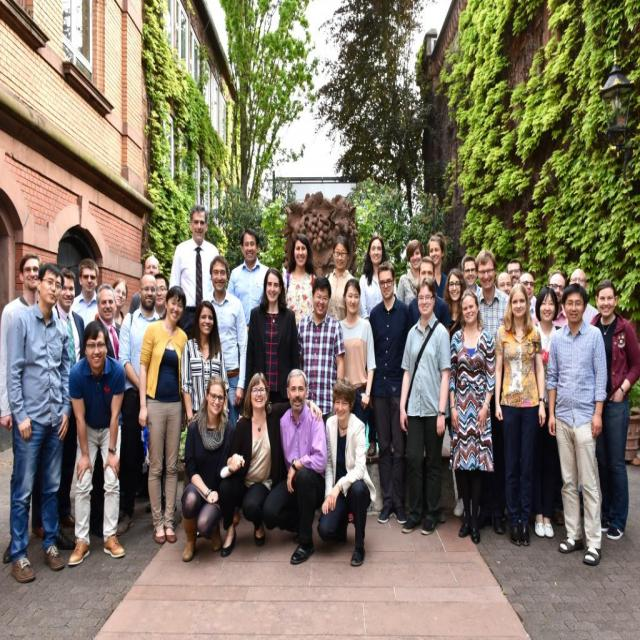body: (0, 250, 79, 567), (6, 260, 74, 584), (545, 283, 609, 567), (68, 317, 128, 568), (492, 281, 548, 548), (398, 274, 453, 537), (138, 283, 192, 546), (588, 278, 640, 542), (113, 272, 163, 538), (446, 288, 497, 545), (179, 373, 247, 562), (368, 258, 415, 528), (219, 372, 281, 560), (317, 374, 377, 567), (473, 249, 510, 536), (279, 366, 329, 567), (87, 283, 122, 537), (53, 266, 86, 529), (200, 253, 249, 427), (294, 275, 346, 430), (244, 265, 300, 404), (334, 278, 377, 458), (532, 285, 562, 539), (168, 203, 220, 341), (180, 298, 231, 429), (442, 266, 468, 517), (226, 226, 271, 332), (280, 231, 320, 327), (406, 255, 450, 333), (324, 236, 362, 322), (357, 233, 391, 324), (71, 256, 101, 329), (535, 269, 569, 331), (128, 254, 161, 315), (396, 239, 426, 306), (568, 267, 600, 326), (94, 276, 129, 327), (426, 229, 450, 300), (459, 253, 485, 306), (150, 272, 170, 316), (518, 271, 536, 316), (506, 256, 524, 286), (496, 271, 513, 297)
